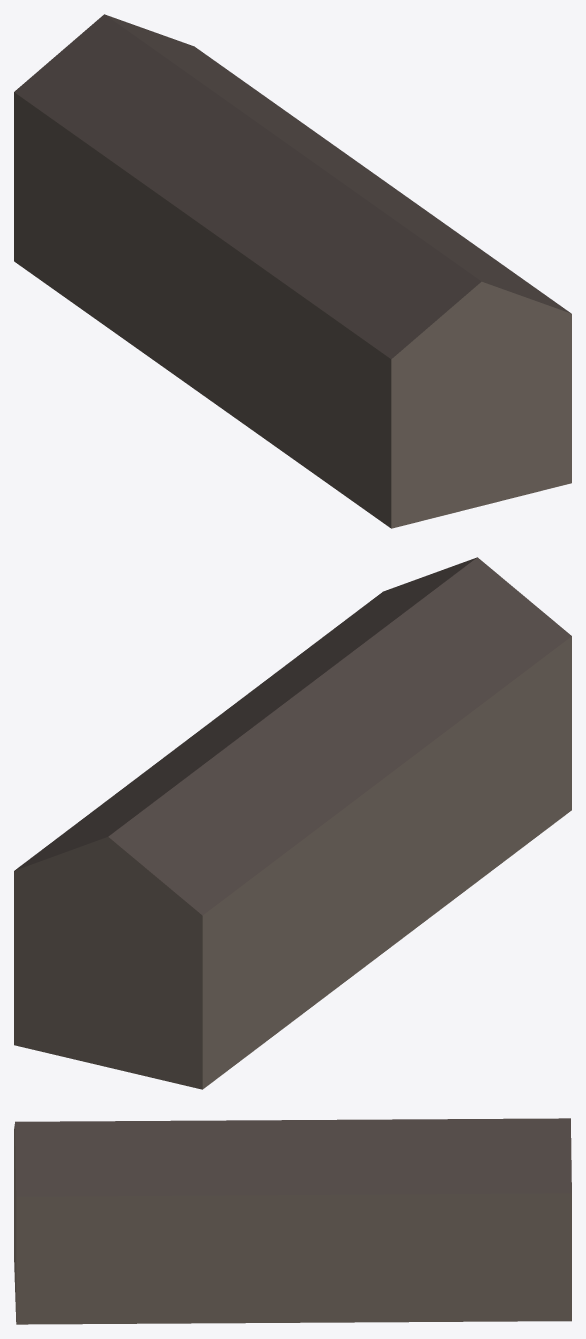
3 renders of one model, top to bottom at view 1: azimuth 30°, elevation 25°; view 2: azimuth 150°, elevation 25°; view 3: azimuth 270°, elevation 25°, orthographic. The views are drawn at different scales.
Visible parts, largest first — view 1: HP-w859467724; view 2: HP-w859467724; view 3: HP-w859467724.
Part boxes in pixels (bbox=[...]): HP-w859467724: bbox=[14, 14, 571, 528]; HP-w859467724: bbox=[14, 557, 571, 1089]; HP-w859467724: bbox=[14, 1118, 571, 1324].
Bounding box in the file's own units: 10.63 × 11.92 × 35.62.
